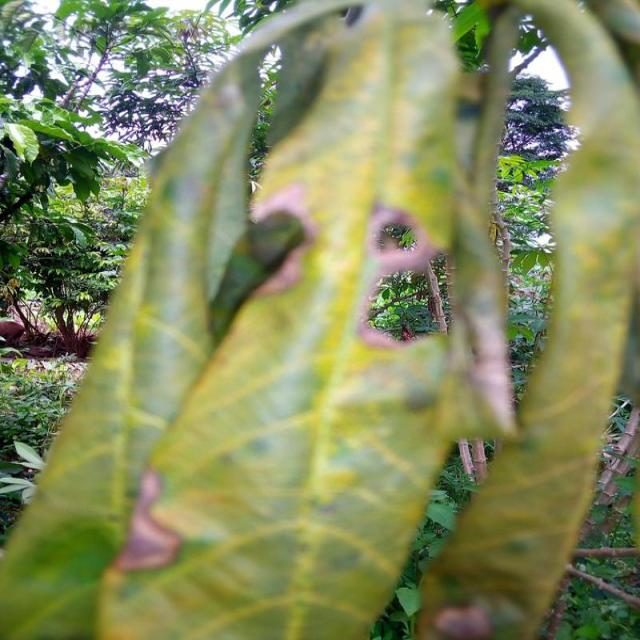cassava leaf: (2, 0, 635, 638)
